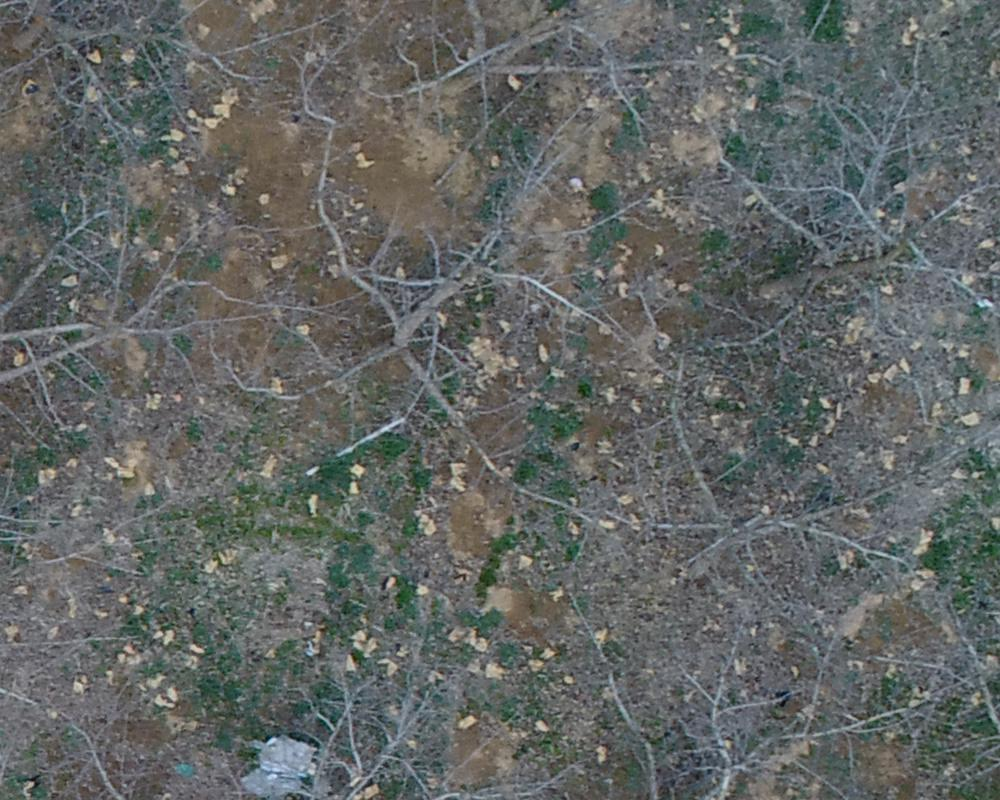apple: (231, 88, 619, 512), (675, 72, 990, 382), (613, 409, 940, 629), (10, 132, 165, 509), (525, 625, 863, 790)
